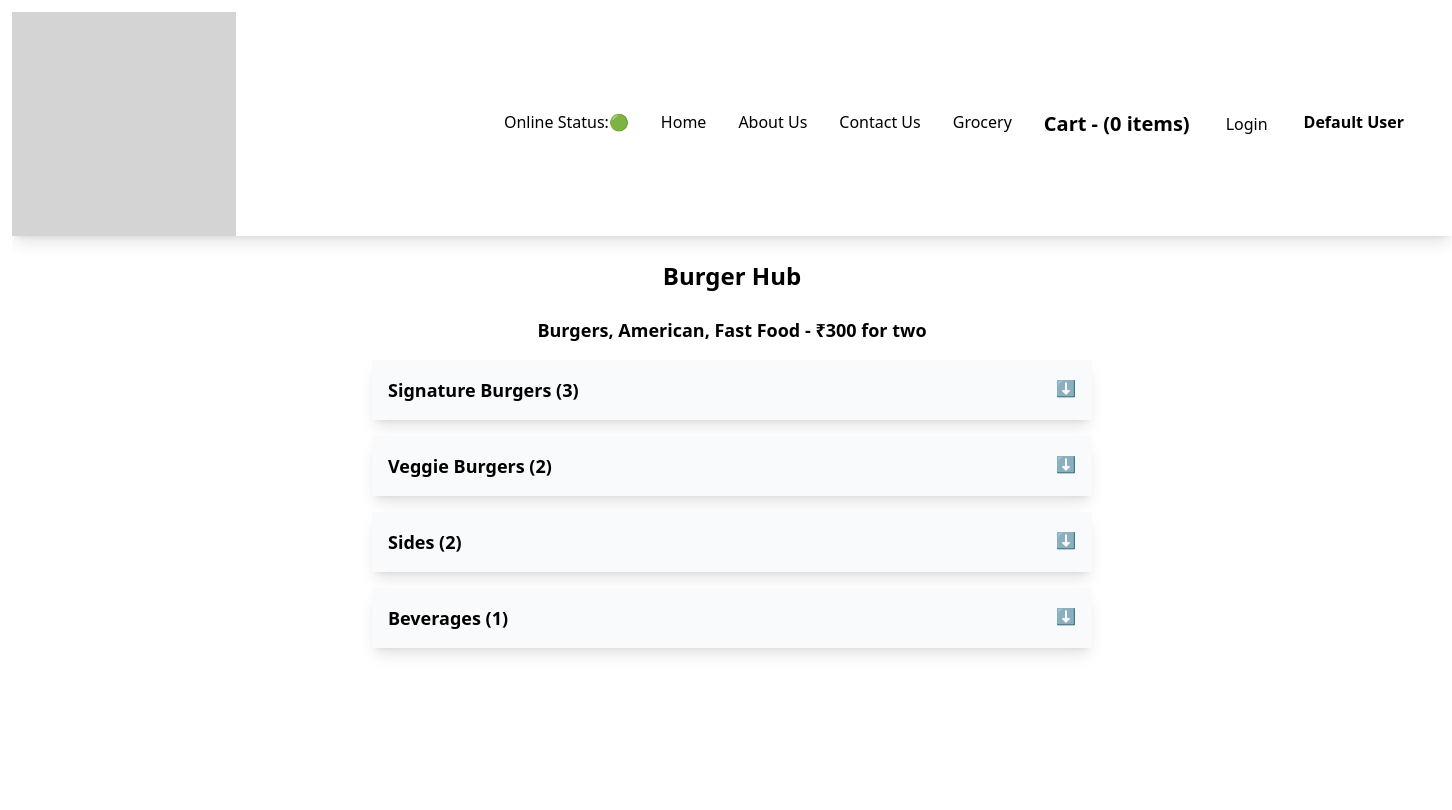
Test case: should Load Restaurant Menu Component
The width and height of the screenshot is (1452, 810).
Note: clicking on the events
Click the text "Signature Burgers (3)".
click(483, 390)  # box [388, 376, 578, 404]
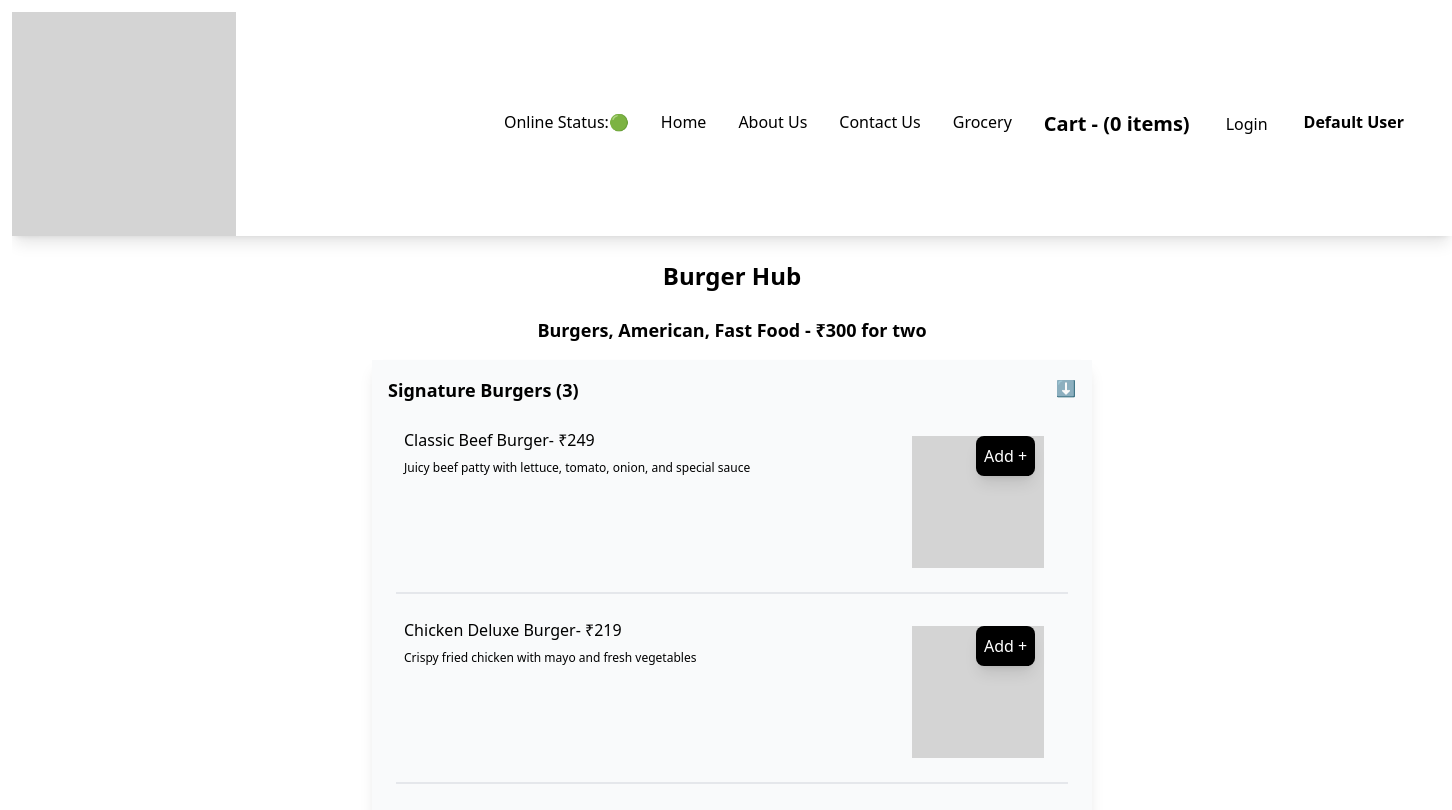
Note: let's click on the first buttons
Click the button "Add +" in the row of "249".
click(1006, 456)  # box [976, 436, 1035, 476]
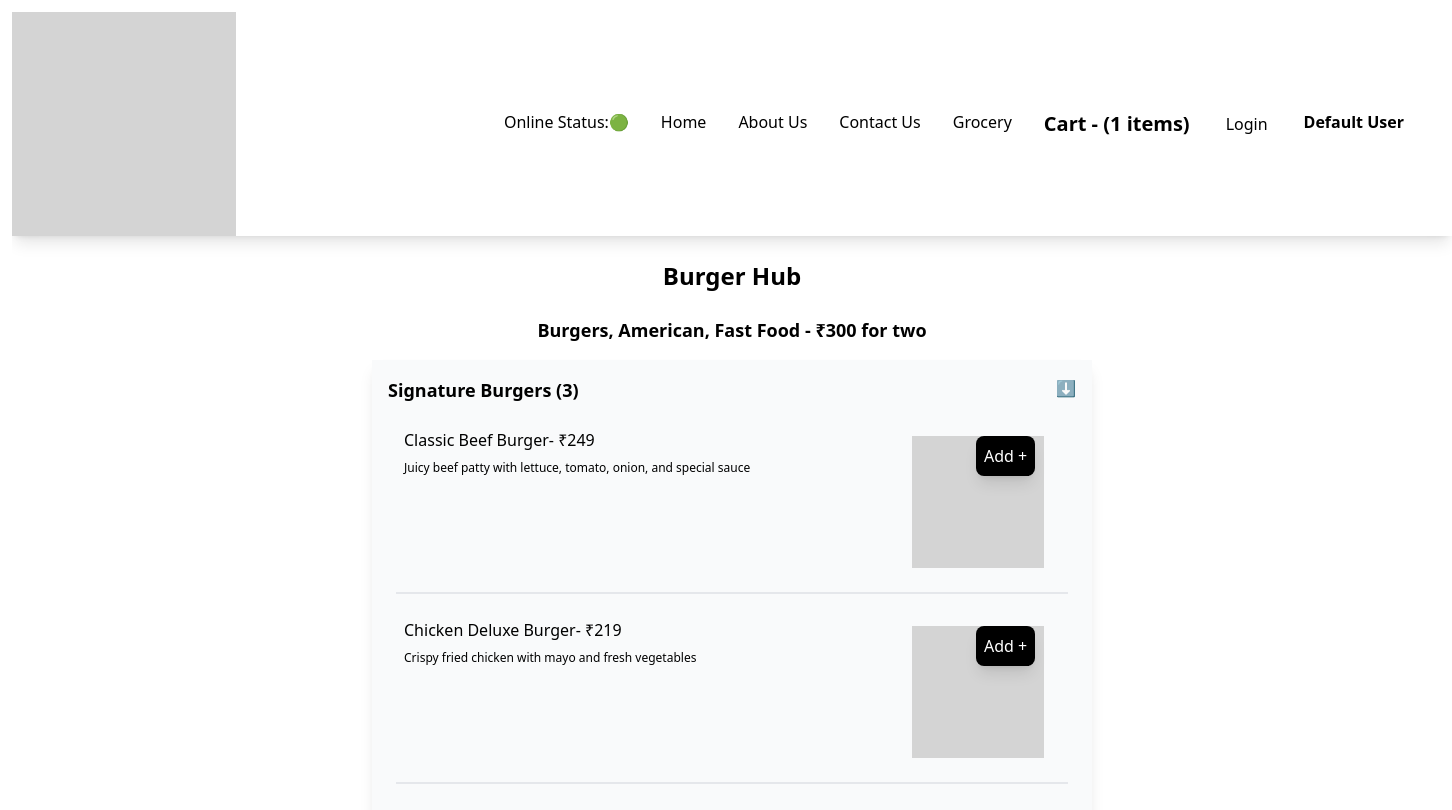
Expected: the link "Cart - (1 items)" is shown, [1044, 110, 1190, 137]
